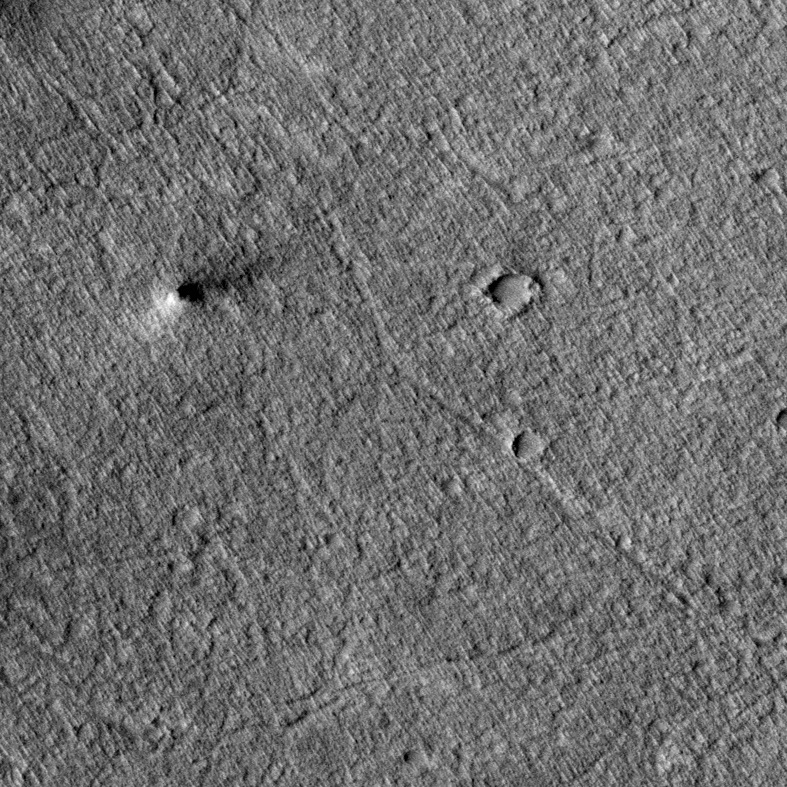dust_devil: (131, 255, 275, 342)
